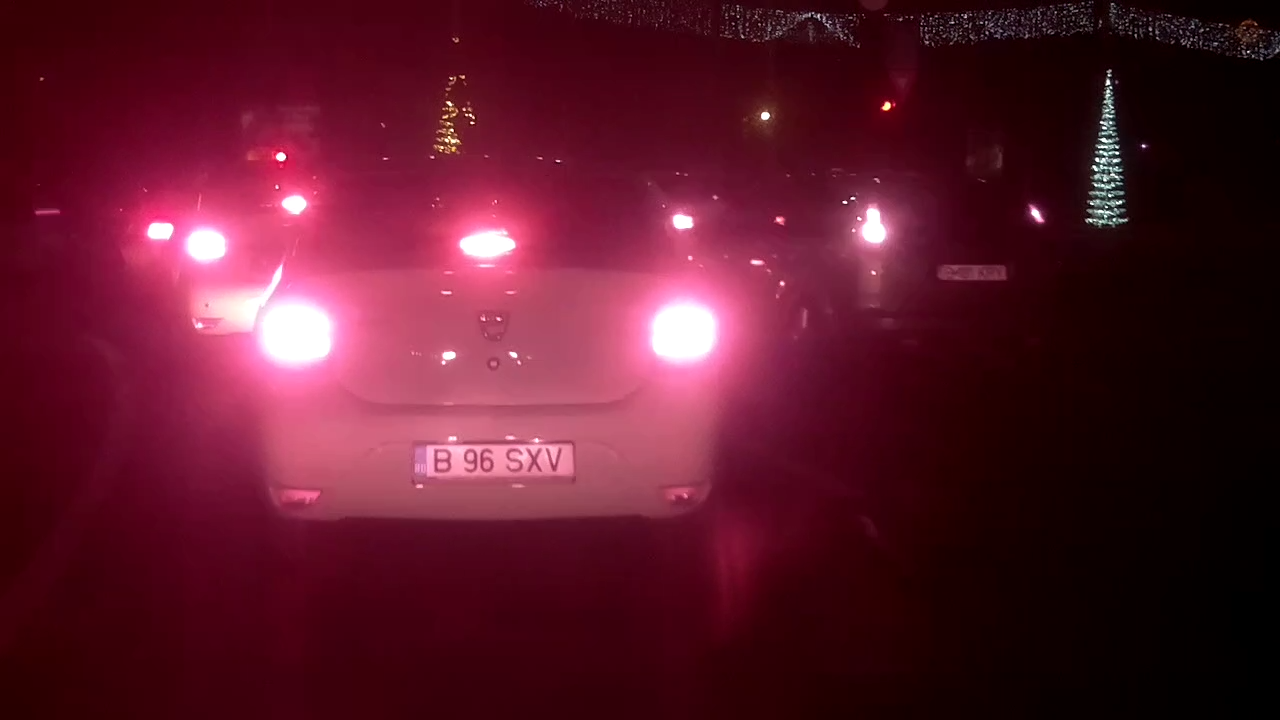license-plate: (407, 436, 579, 483)
